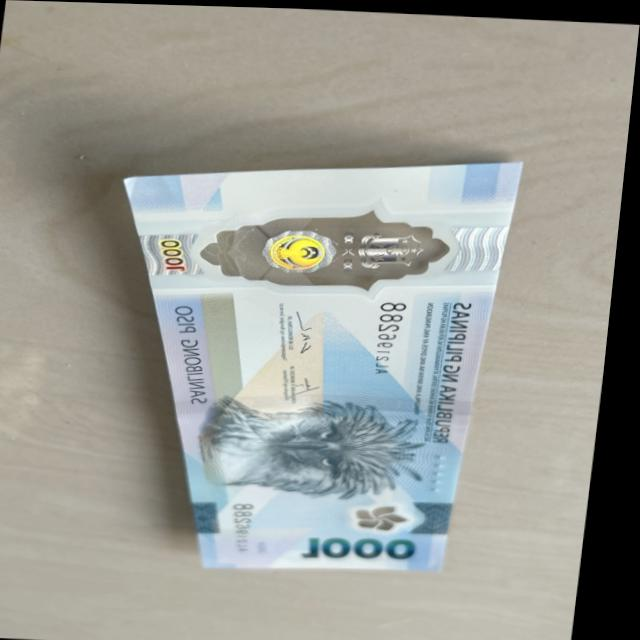clear_window: (197, 194, 467, 295)
eagle: (196, 391, 428, 499)
sampaguita: (362, 500, 425, 531)
